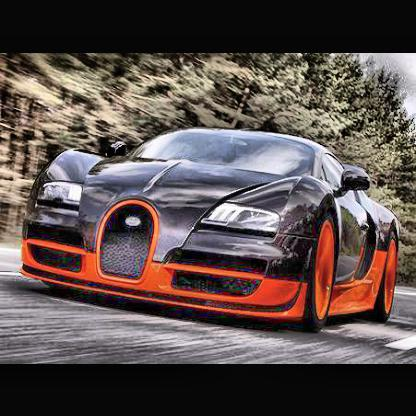Bugatti Veyron 16-4 Coupe 2009: (21, 126, 404, 336)
